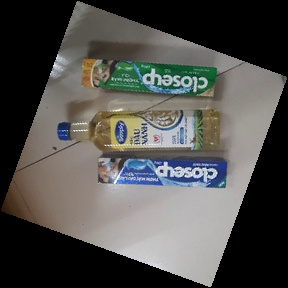CloseUp Tuyet: (94, 153, 229, 190)
CloseUp Xanh: (79, 56, 219, 101)
Simply: (54, 108, 223, 154)
